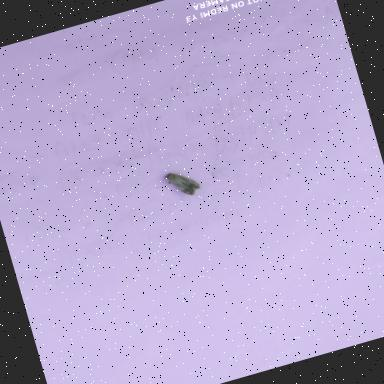pbw: (150, 164, 206, 208)
